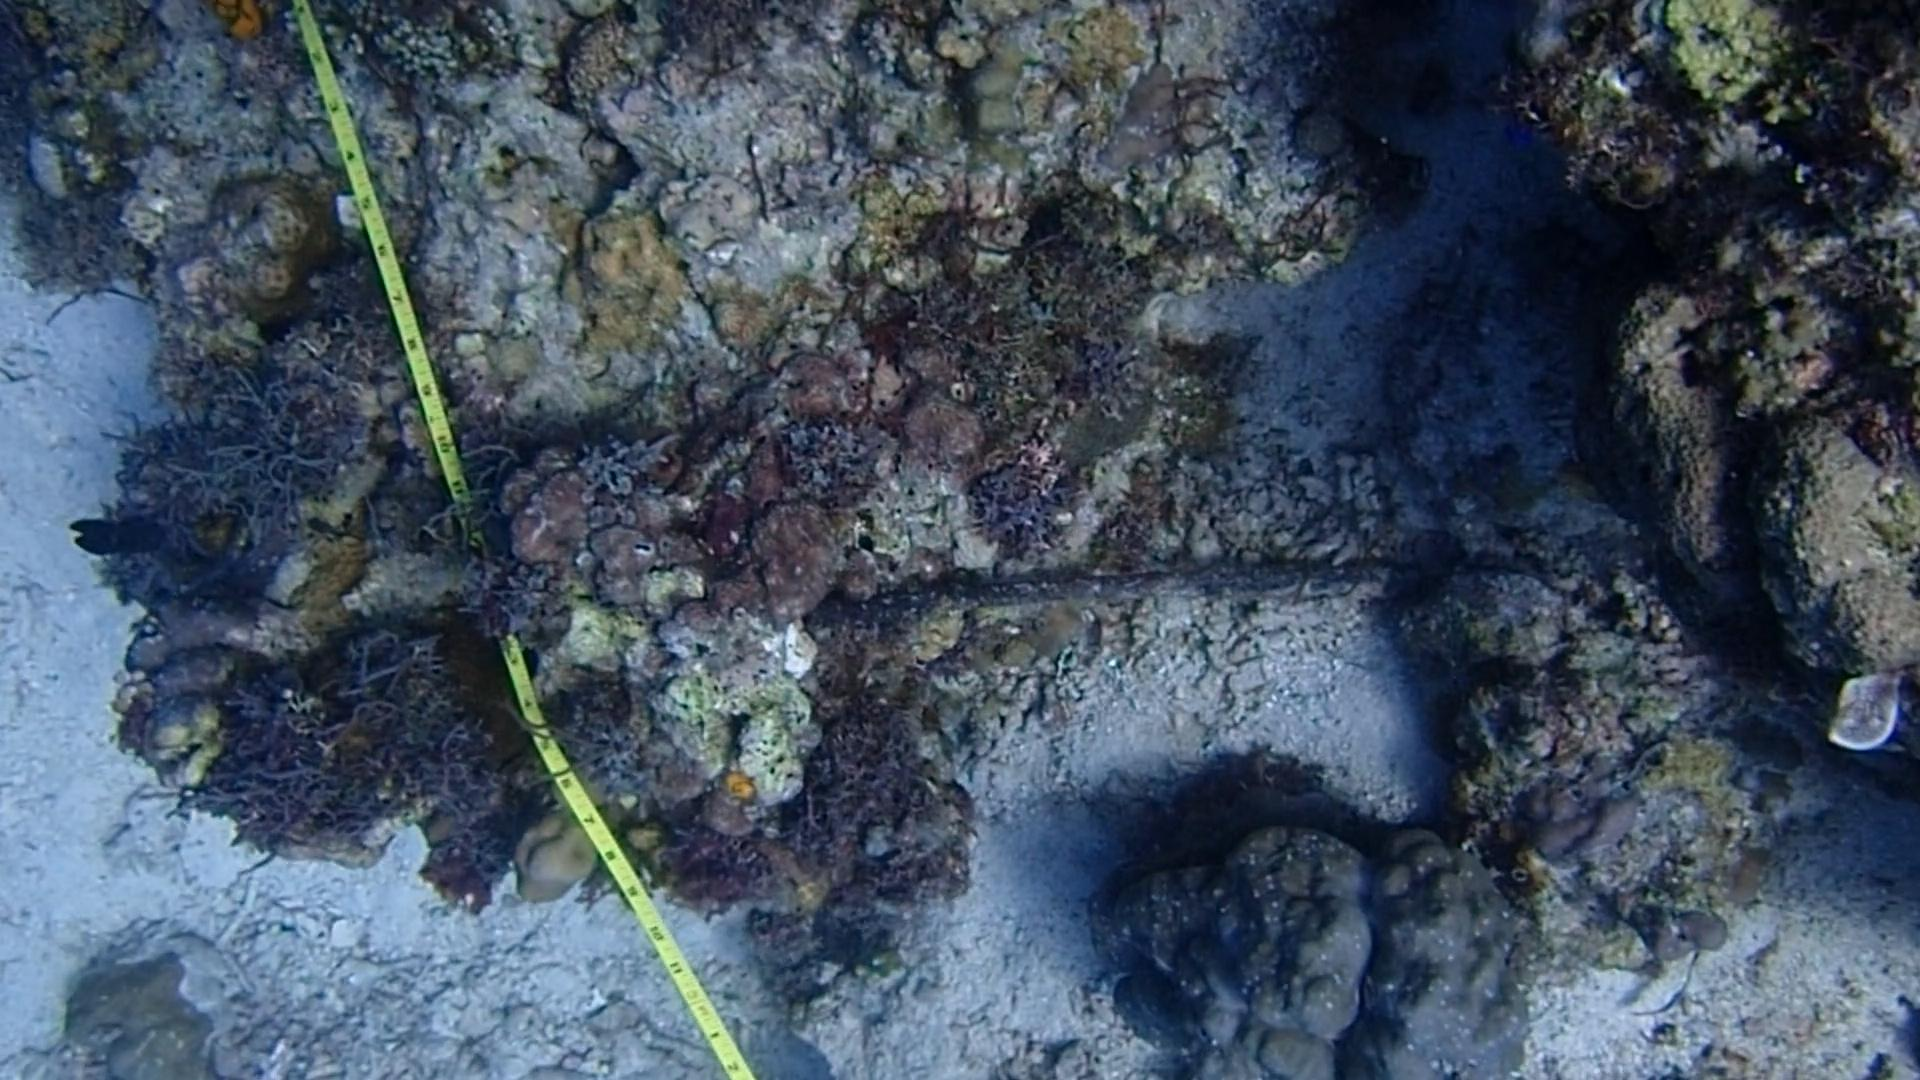Dark Fish: (65, 492, 174, 570)
